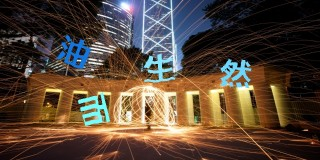油: (56, 33, 92, 69)
然: (220, 57, 251, 88)
生: (142, 53, 176, 83)
而: (78, 93, 111, 126)
